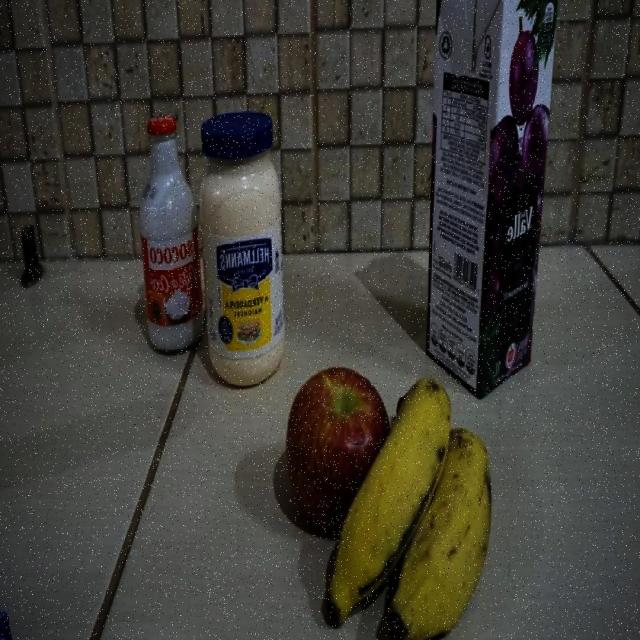Apple: (286, 362, 394, 528)
Banana: (321, 378, 491, 636)
CoconutMilk: (140, 117, 200, 352)
Mayonnaise: (195, 112, 282, 387)
